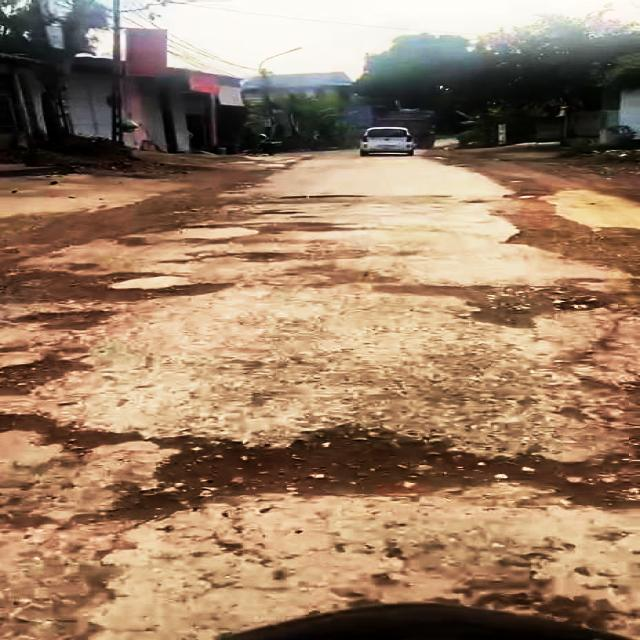pothole: (89, 420, 640, 519), (402, 279, 628, 330), (0, 354, 106, 400), (8, 306, 128, 332)
